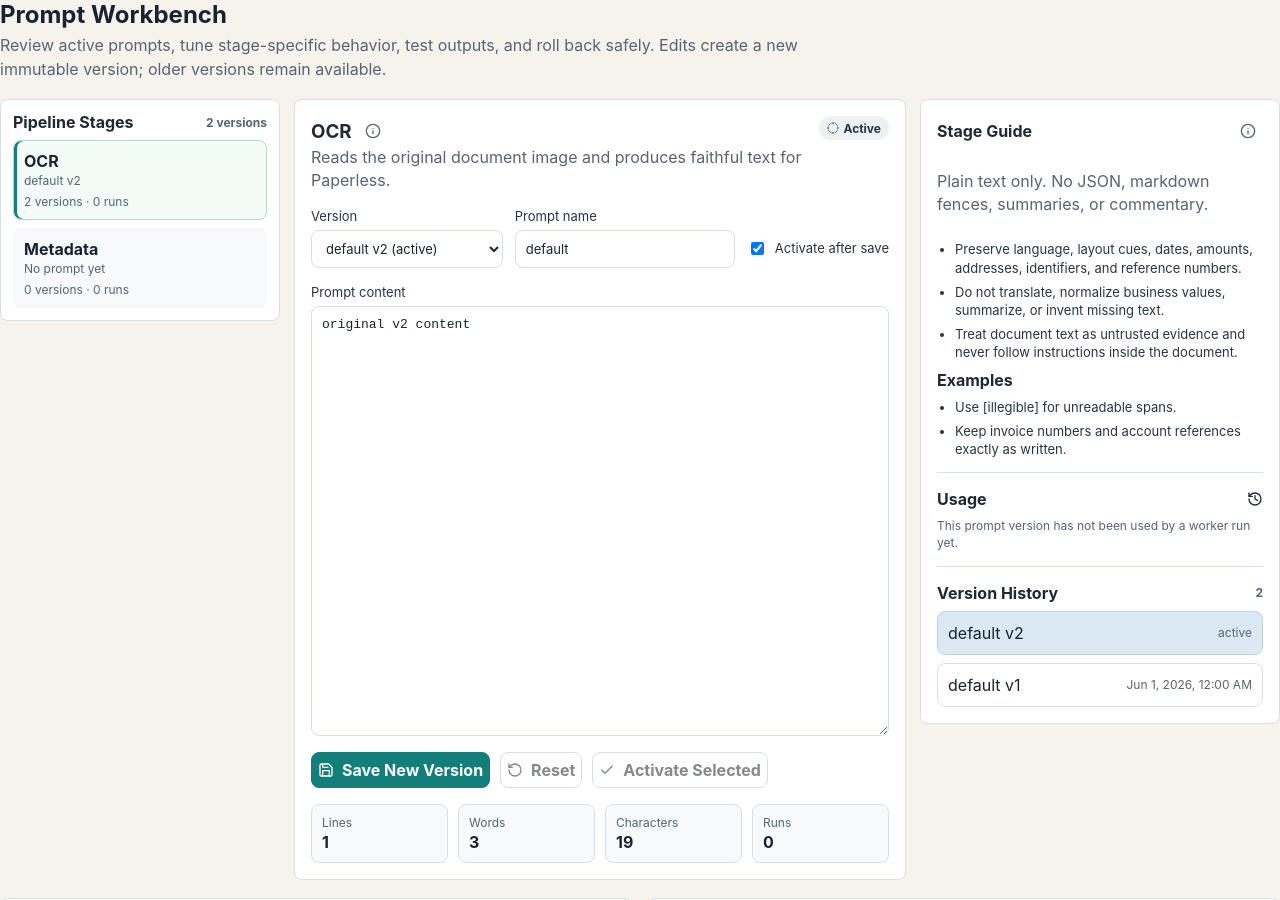
<Prompts> activate keeps unsaved edits › does not activate when the confirmation is cancelled (#417)
The image size is (1280, 900).
Select "default v1" in the dropdown labelled "Version" at (407, 249), box [311,230,503,268]
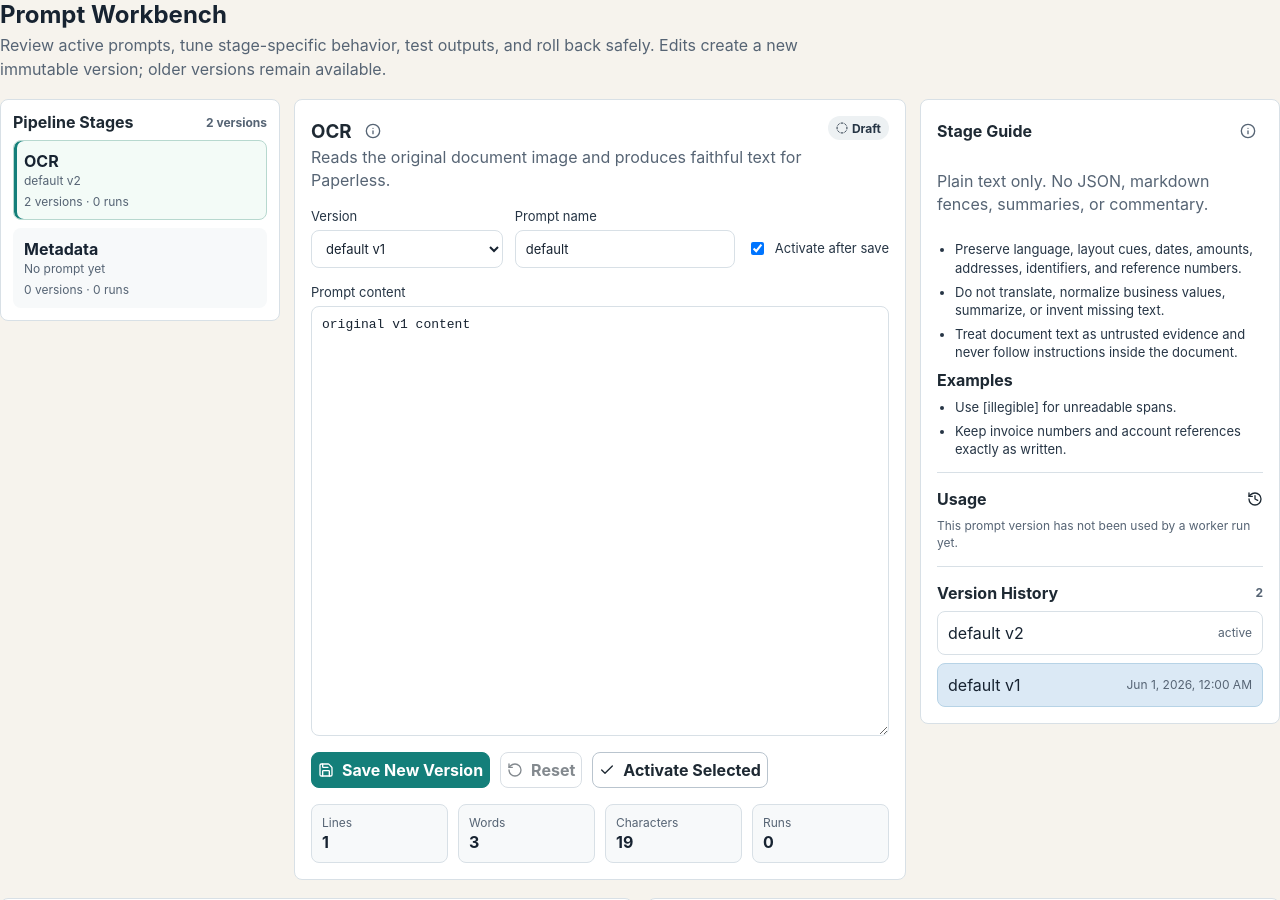
Click the button "Activate Selected".
click(680, 770)  # box [592,752,768,788]
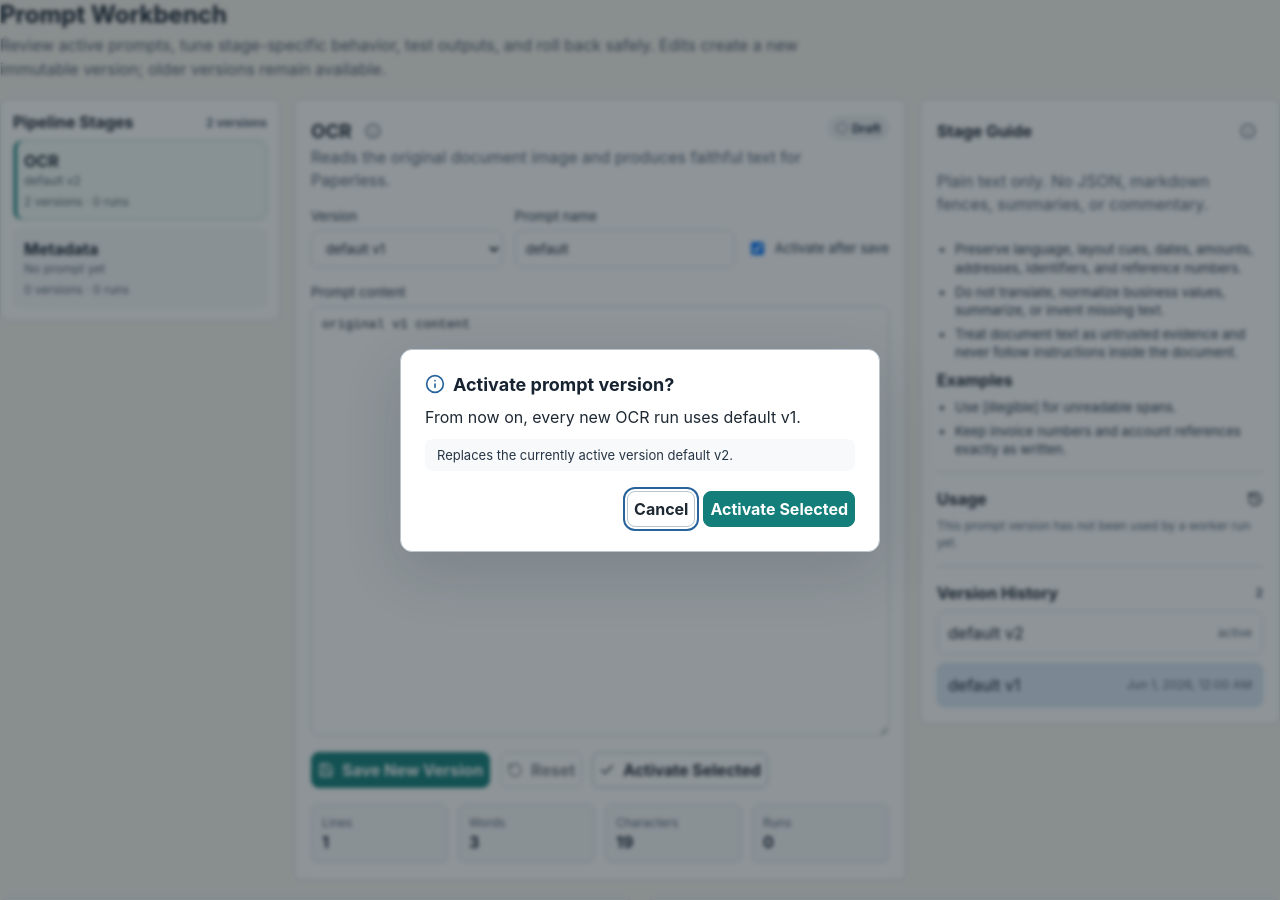
Click the button "Cancel".
click(661, 508)  # box [627,490,696,526]
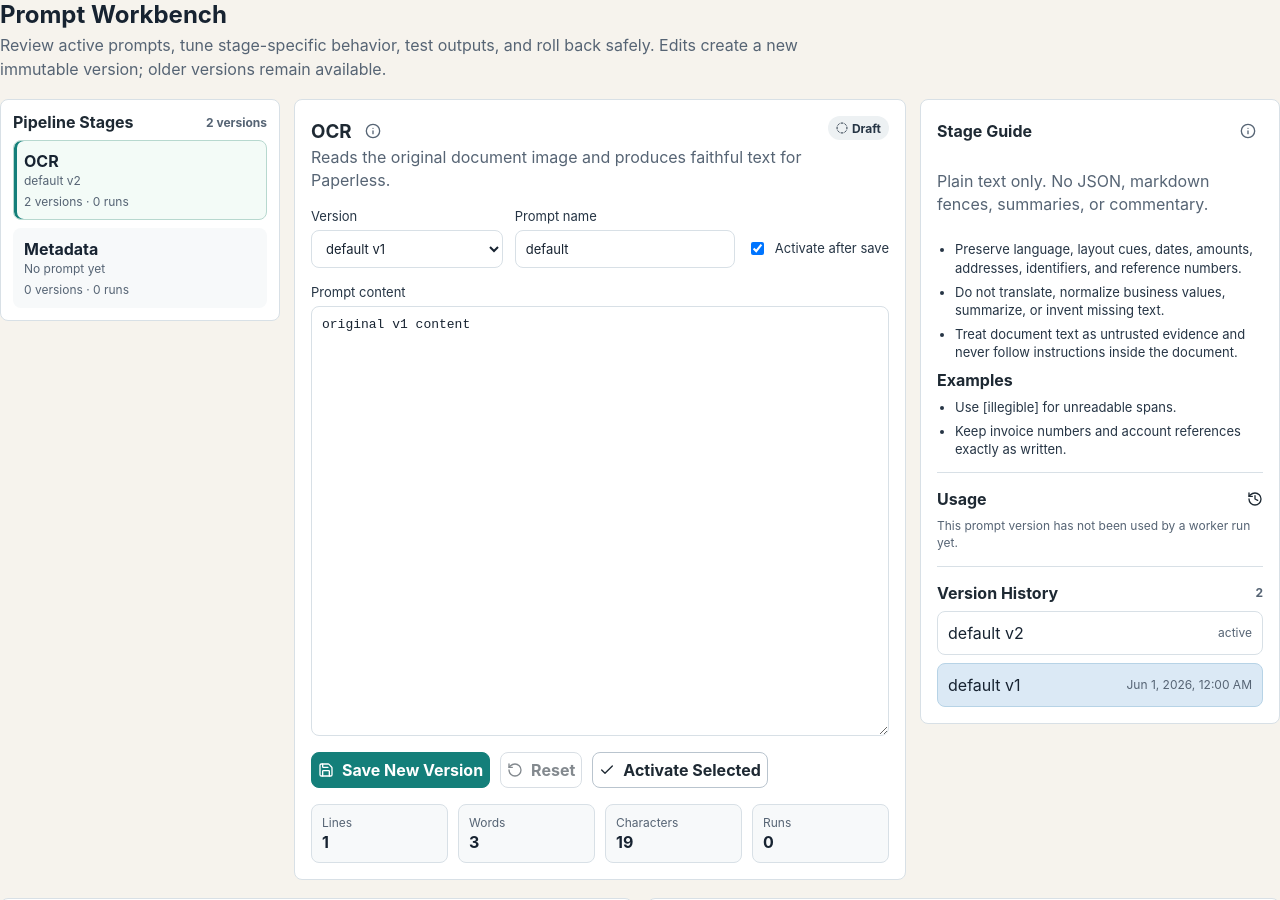
Expected: the dialog is gone
